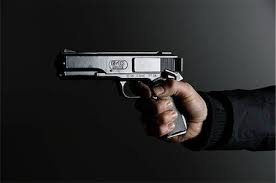gun: (59, 52, 194, 132)
